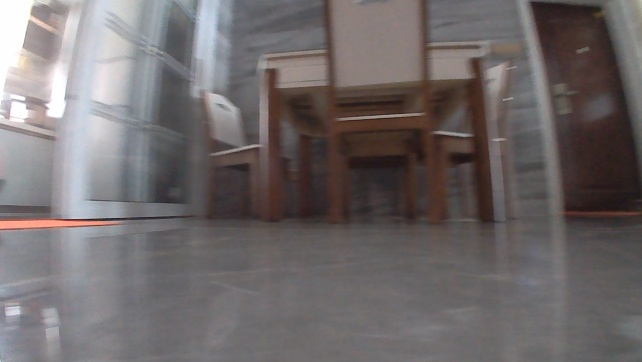blanket: (0, 215, 122, 231)
dining_table: (195, 0, 506, 229)
